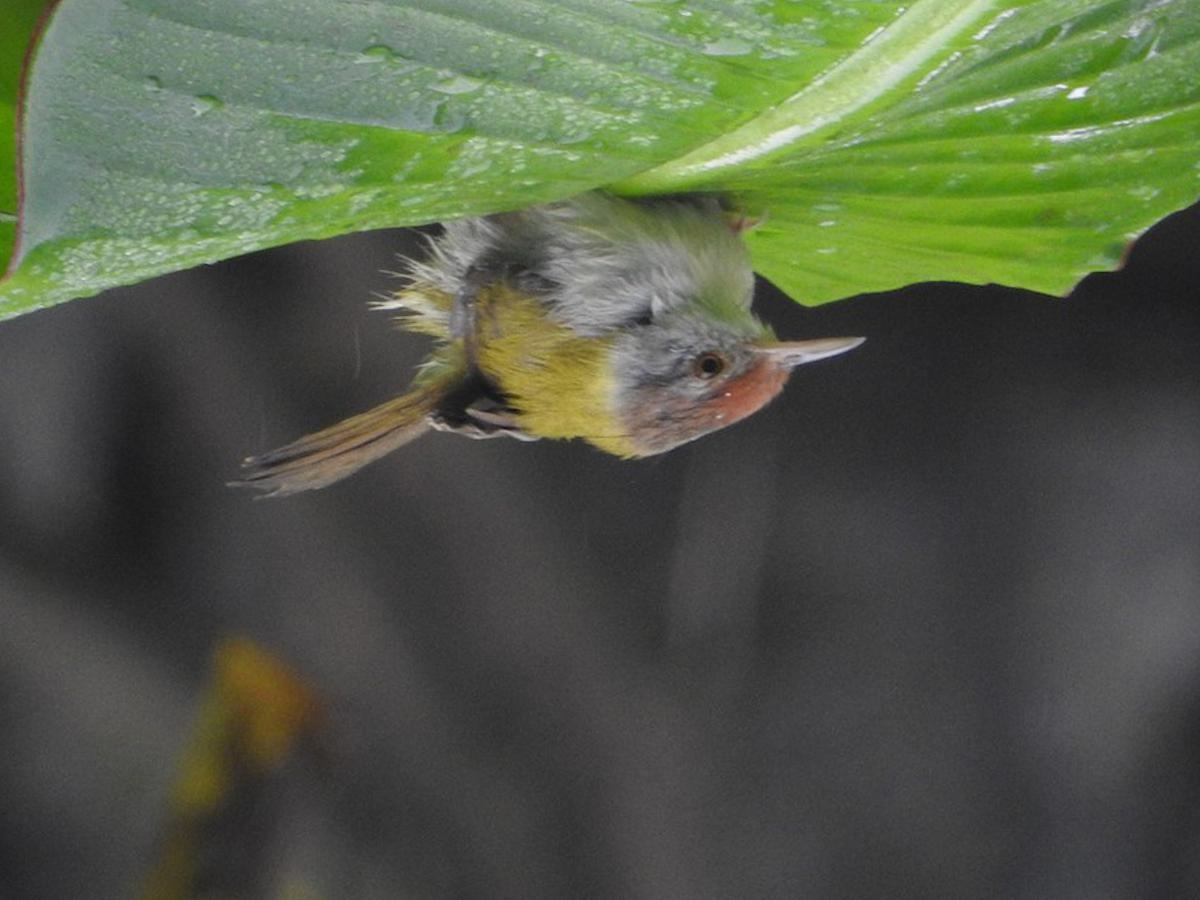tailorbird: (153, 130, 844, 583)
